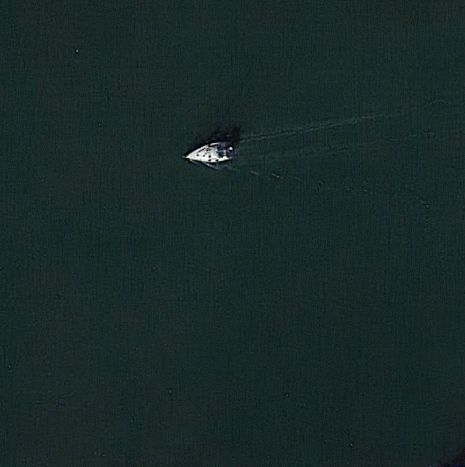boat: (182, 139, 238, 167)
